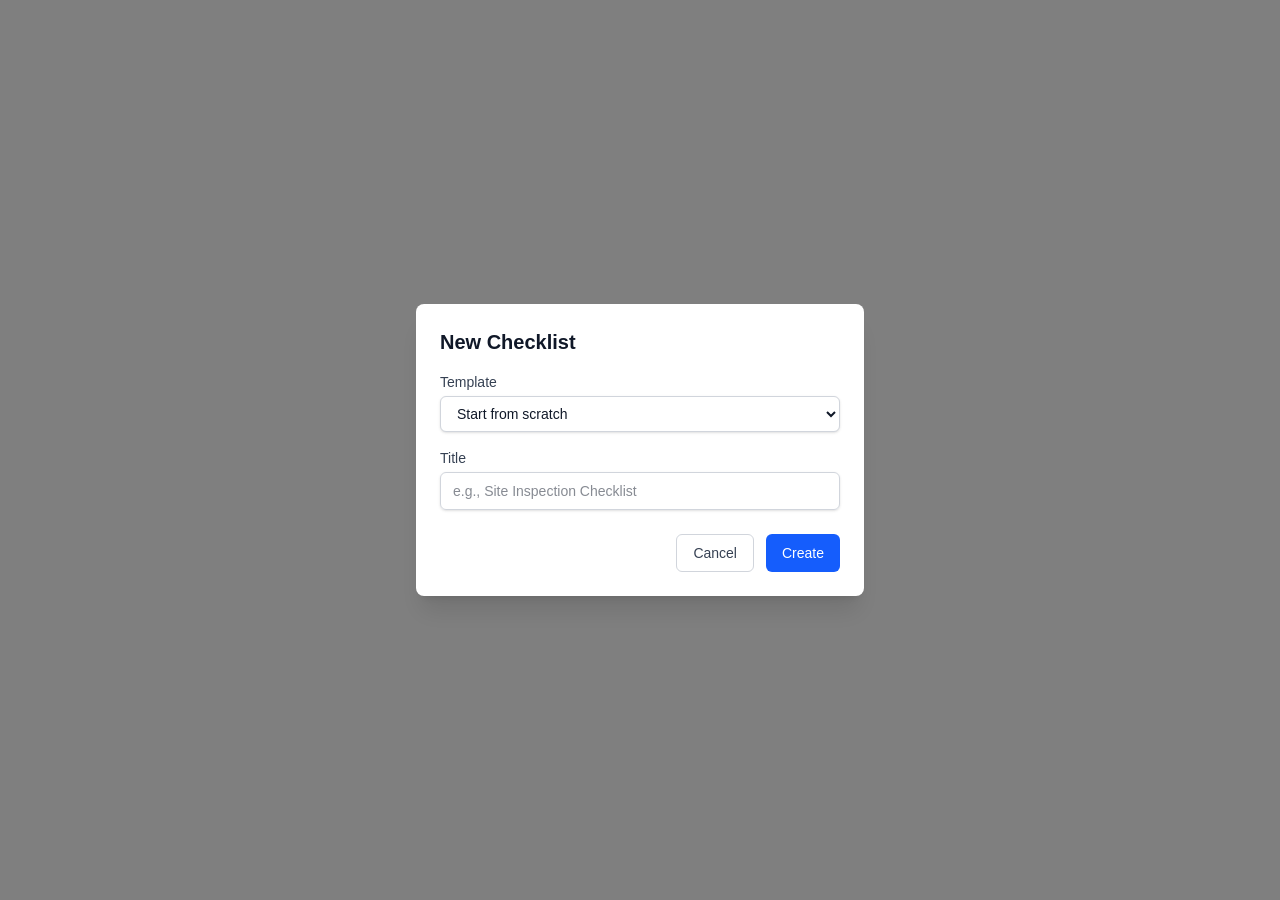
Test case: CreateChecklistModal › should show error message when user not logged in
Type "Test Checklist" into the field labelled "Title" at x=640, y=491, box [440, 472, 840, 510]
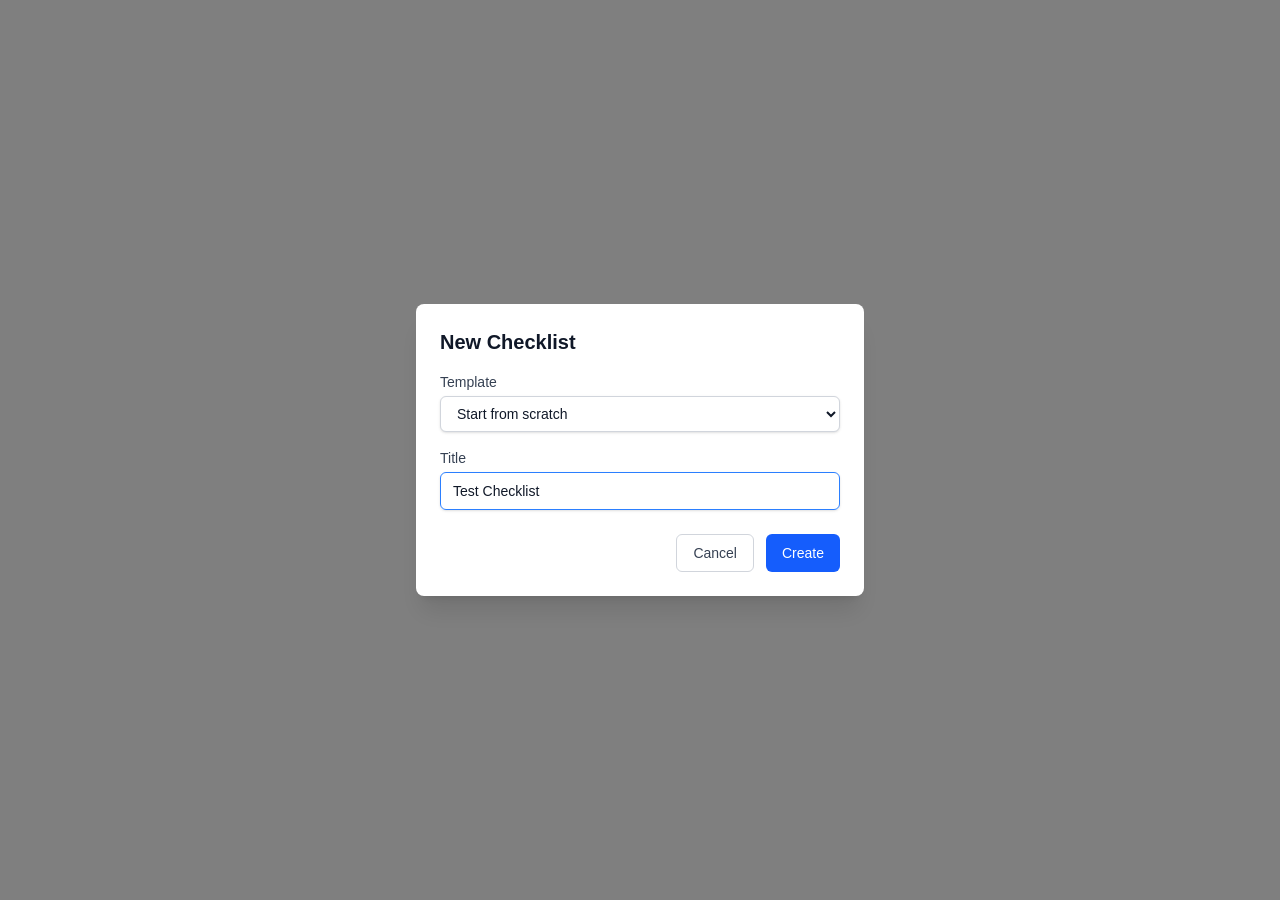
Click the button "Create" at x=803, y=553, box [766, 534, 840, 572]
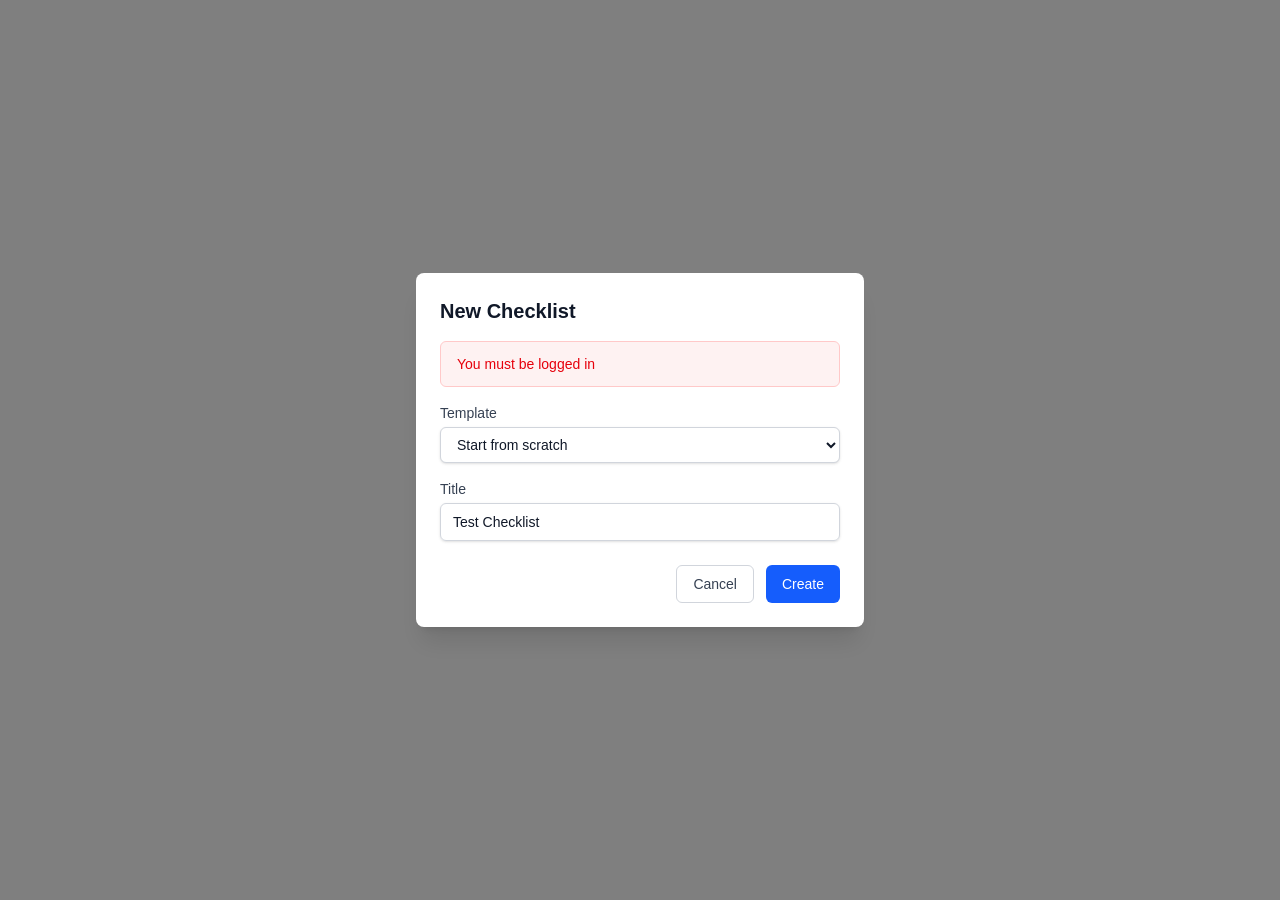
Check: the text "You must be logged in" is shown, box [440, 341, 840, 387]
